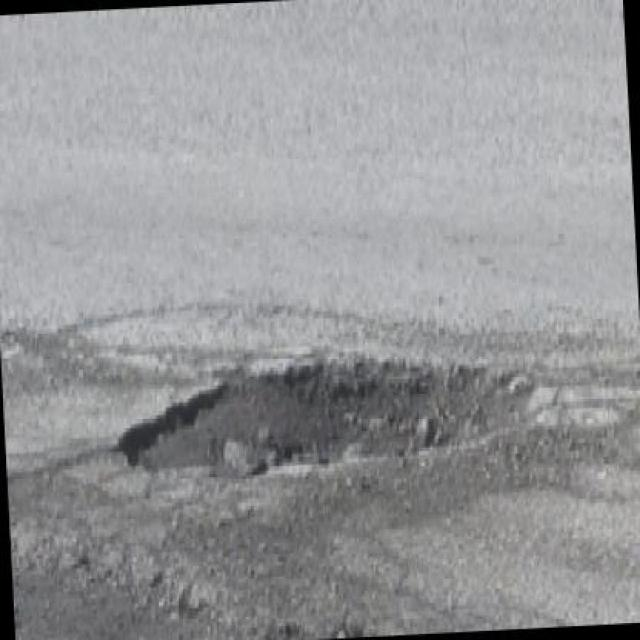pothole: (108, 328, 541, 490)
